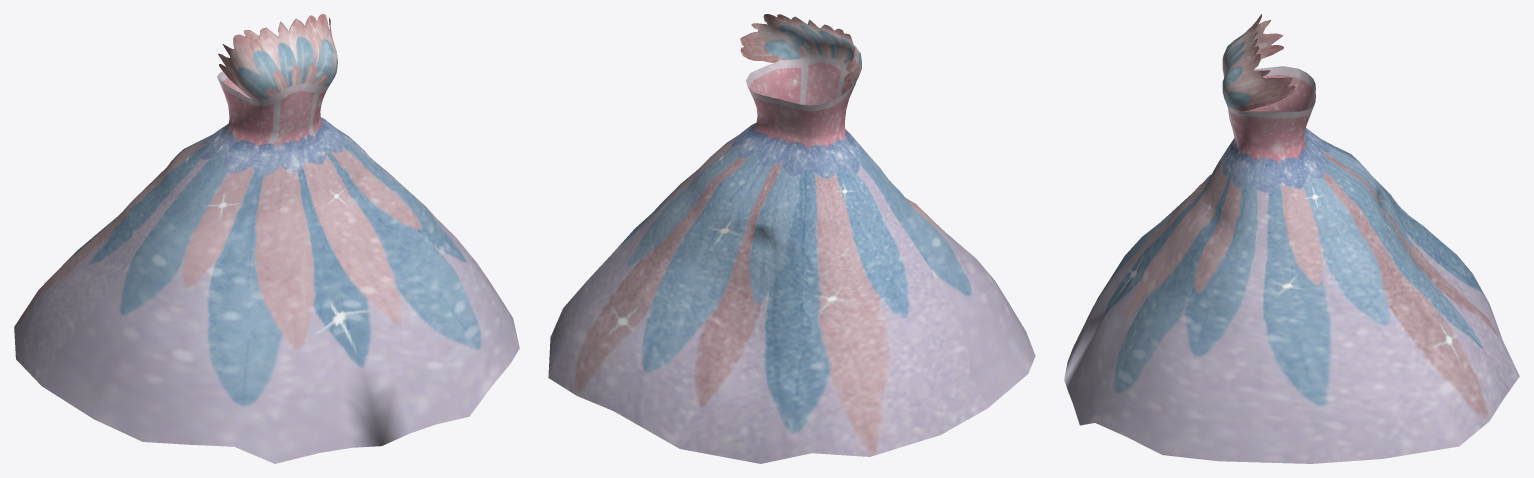
File: swan-lake-suite_barbie.glb
The picture shows the model from 3 angles, left to right: view 1: azimuth 30°, elevation 25°; view 2: azimuth 150°, elevation 25°; view 3: azimuth 270°, elevation 25°; orthographic projection. The views are drawn at different scales.
Parts seen in each view (by area): view 1: Object_3; view 2: Object_3; view 3: Object_3.
Part boxes in pixels (x1,y1,x2,y2): Object_3: [14, 14, 519, 463]; Object_3: [548, 14, 1035, 463]; Object_3: [1064, 14, 1519, 463].
Size of the model in its own units: 1.15 by 0.9074 by 1.08.
Materials: 1 (1 with a texture image).
